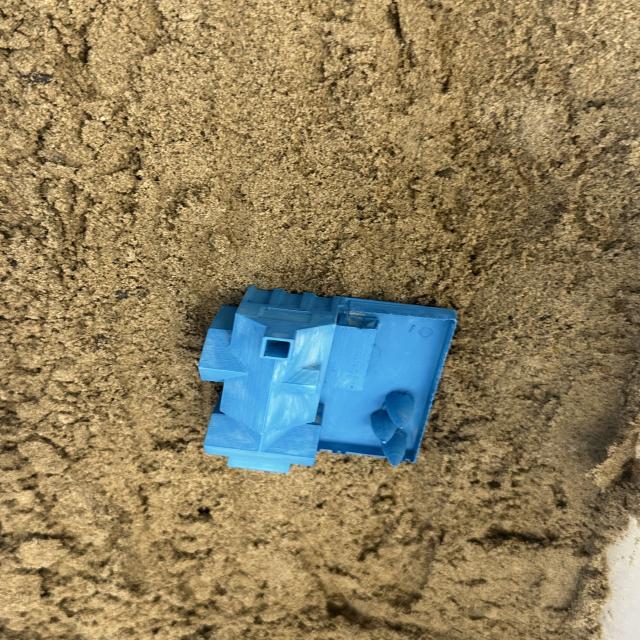house: (193, 284, 458, 474)
